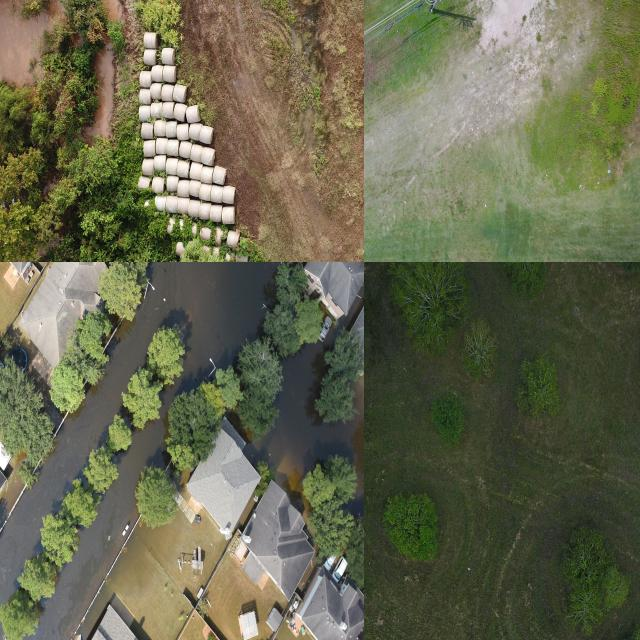fire: (24, 262, 277, 640), (273, 344, 364, 511), (0, 0, 60, 83), (86, 45, 113, 137)
